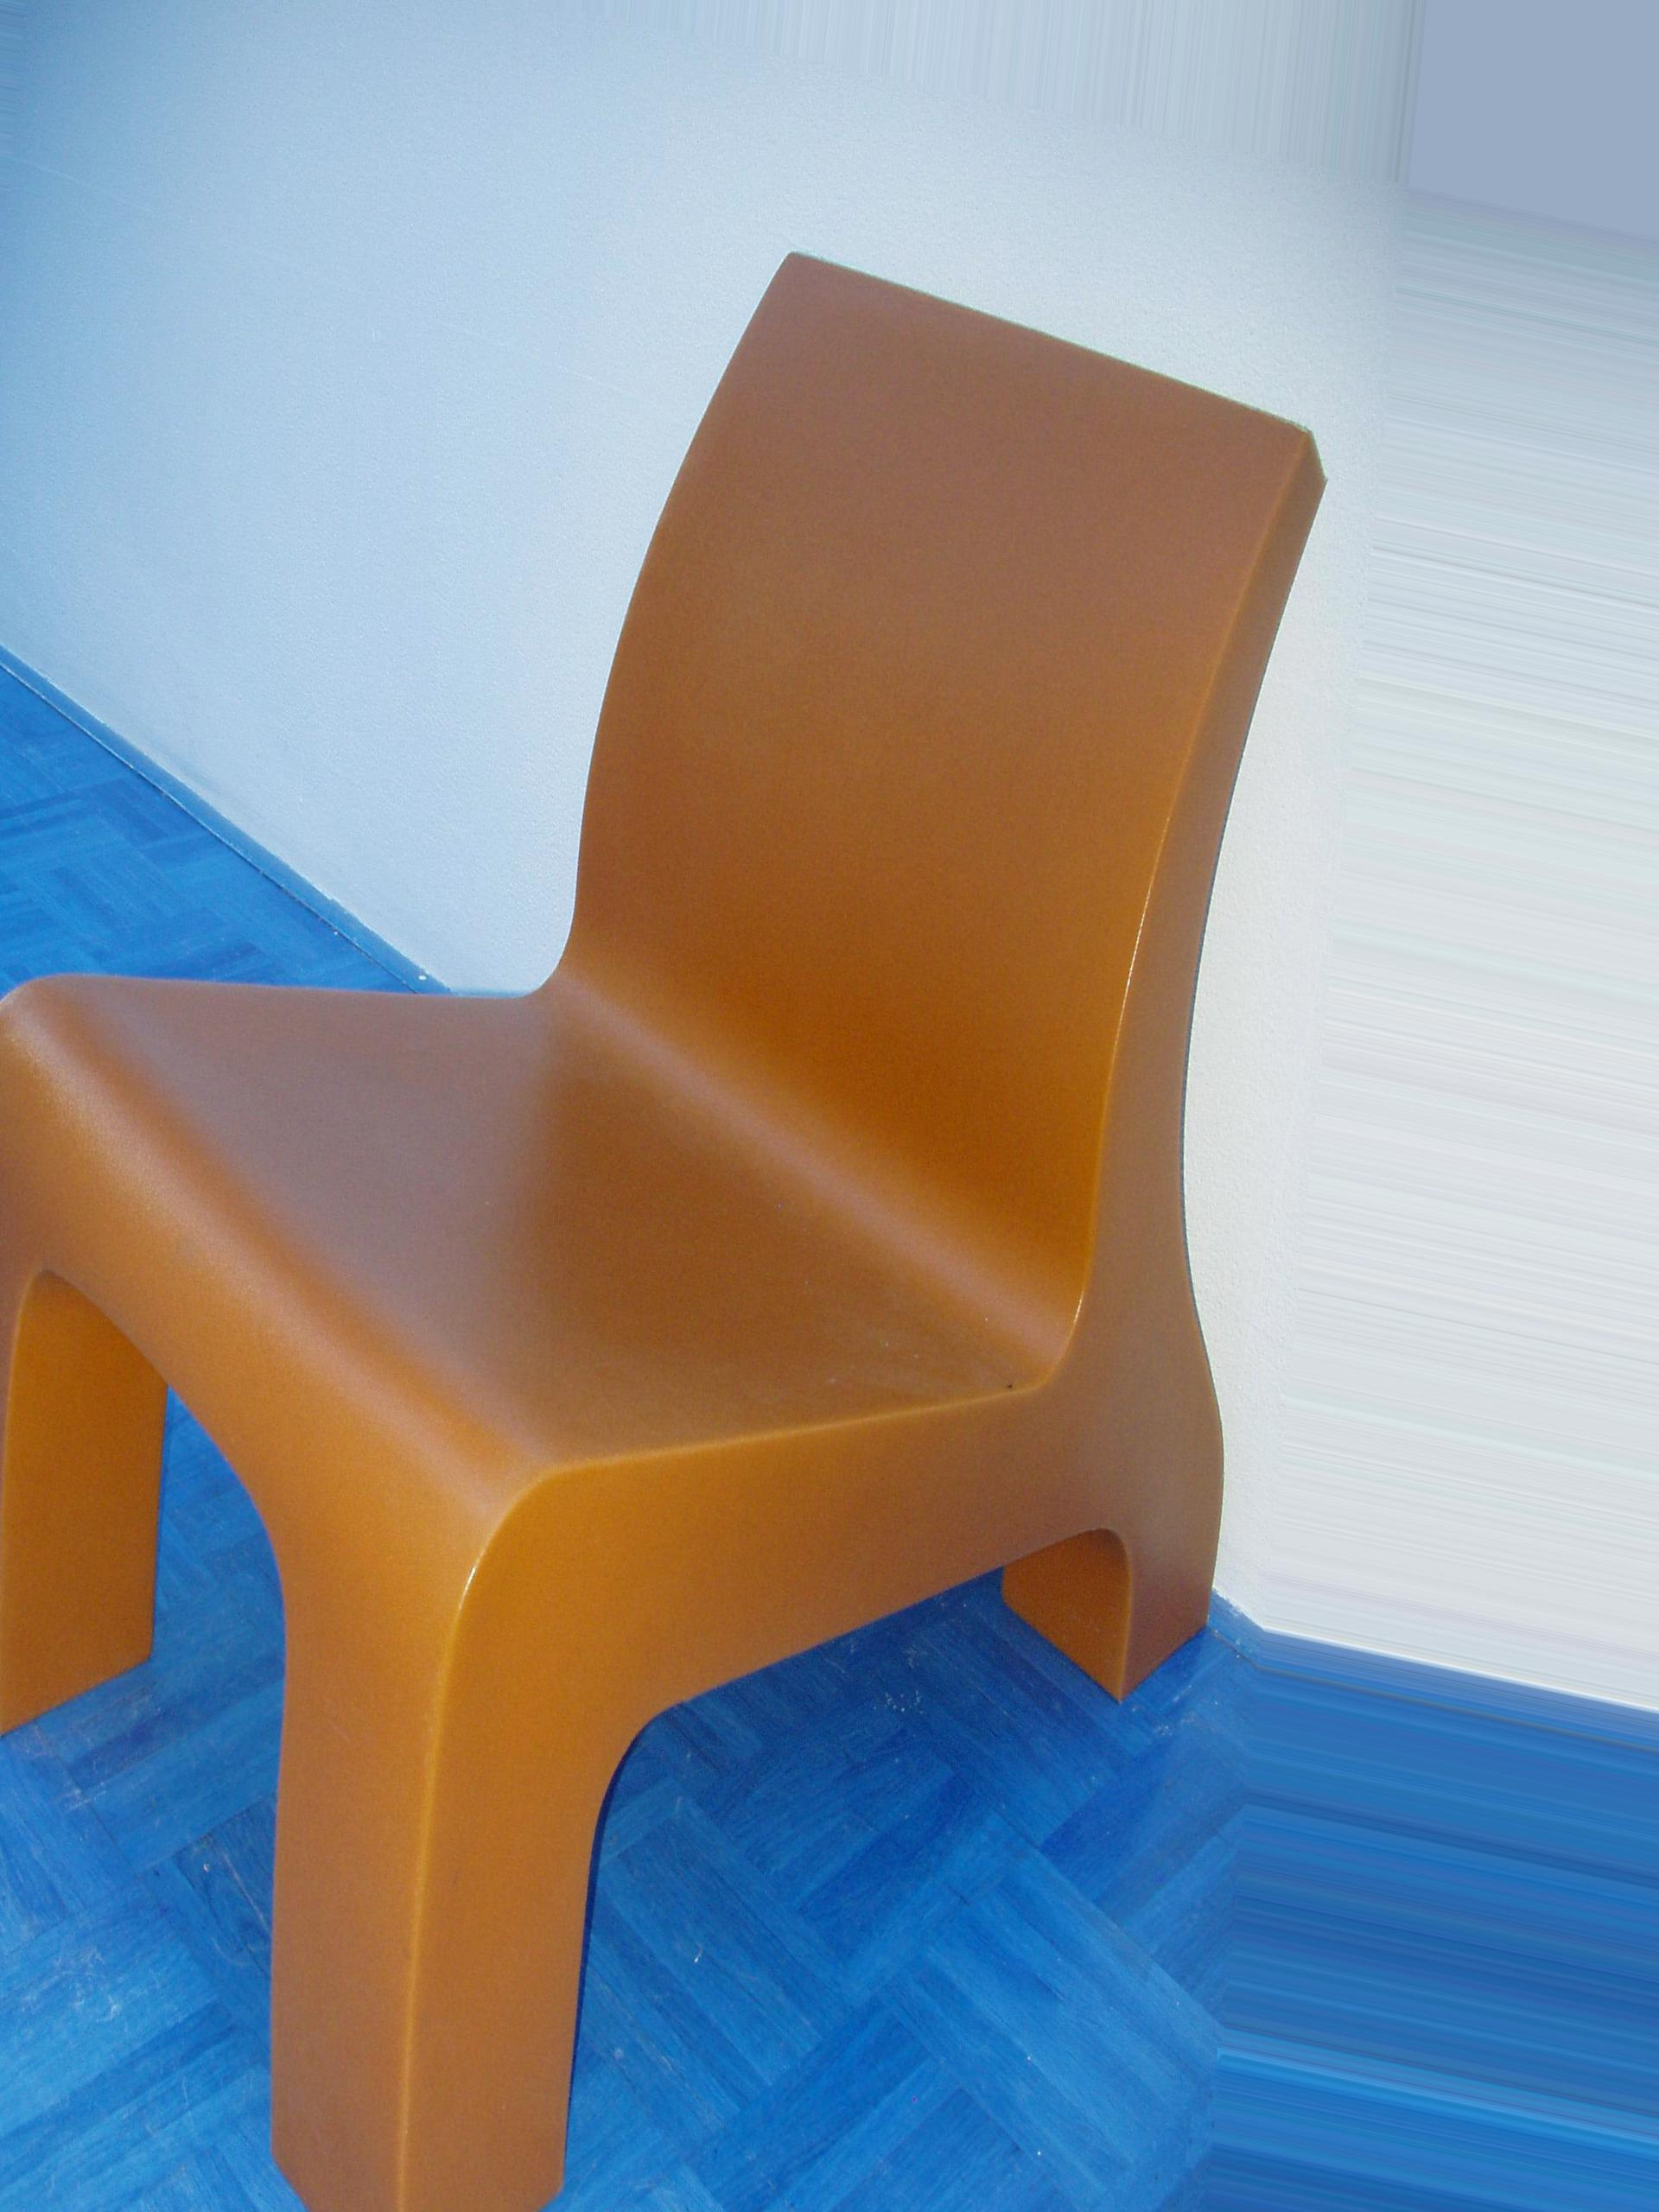chair: (0, 235, 1338, 2212)
